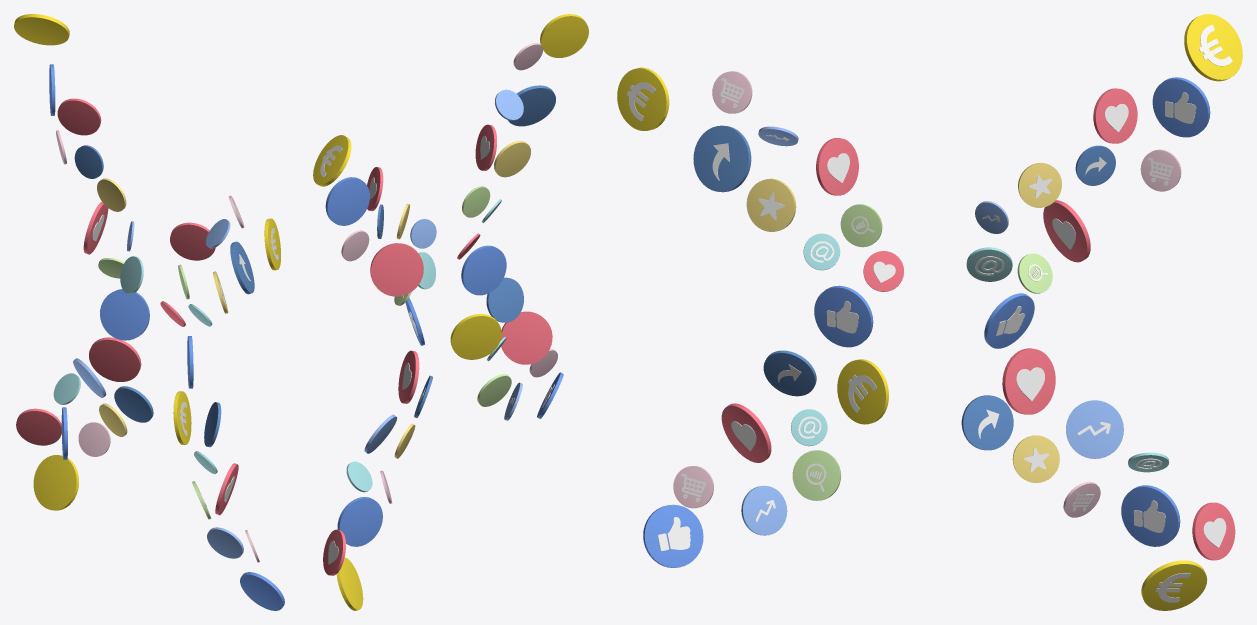
The model's file is expansion6-4.glb.
The picture shows the model from 3 angles, left to right: view 1: azimuth 30°, elevation 25°; view 2: azimuth 150°, elevation 25°; view 3: azimuth 270°, elevation 25°; orthographic projection. The views are drawn at different scales.
Visible parts, largest first — view 1: piece_euro.001, piece_like.002, piece_coeur.005, piece_euro.002, piece_coeur.006, piece_coeur.001, piece_coeur.004, piece_like.004, piece_partager.001, piece_caddie.002, piece_fleche.002, piece_euro.004 (+13 smaller); view 2: piece_coeur.003, piece_coeur.007, piece_euro.004, piece_like.001, piece_like.003, piece_like.005, piece_euro.003, piece_euro.002, piece_partager.002, piece_partager.004, piece_etoile.001, piece_euro.001 (+15 smaller); view 3: piece_partager.004, piece_euro.002, piece_like.004, piece_coeur.005, piece_like.003, piece_like.001, piece_fleche.001, piece_like.005, piece_euro.004, piece_euro.003, piece_euro.001, piece_partager.001 (+24 smaller).
Boxes of the visible parts, x1,y1,x2,y2 form: piece_euro.001: (33,455,78,510); piece_like.002: (100,289,149,340); piece_coeur.005: (89,337,141,381); piece_euro.002: (14,14,69,45); piece_coeur.006: (16,408,61,445); piece_coeur.001: (170,222,215,260); piece_coeur.004: (57,98,101,135); piece_like.004: (240,572,284,610); piece_partager.001: (114,386,153,422); piece_caddie.002: (78,422,110,456); piece_fleche.002: (207,527,243,558); piece_euro.004: (173,391,191,444); piece_coeur.003: (370,243,423,296); piece_coeur.007: (500,311,552,364); piece_euro.004: (450,314,501,359); piece_like.001: (461,245,506,295); piece_like.003: (337,497,382,546); piece_like.005: (325,177,369,225); piece_euro.003: (540,14,588,57); piece_euro.002: (313,135,351,186); piece_partager.002: (486,277,523,322); piece_partager.004: (508,85,555,126); piece_etoile.001: (494,141,530,177); piece_euro.001: (336,557,363,610); piece_partager.004: (693,125,751,192); piece_euro.002: (1184,14,1242,81); piece_like.004: (643,504,703,567); piece_coeur.005: (1002,348,1055,414); piece_like.003: (1121,485,1180,546); piece_like.001: (814,285,873,347); piece_fleche.001: (1066,400,1123,458); piece_like.005: (1152,77,1210,137); piece_euro.004: (837,359,888,424); piece_euro.003: (617,67,669,130); piece_euro.001: (1141,560,1207,610); piece_partager.001: (961,395,1013,450).
Bounding box in the file's own units: 0.6899 × 6.92 × 6.6.
